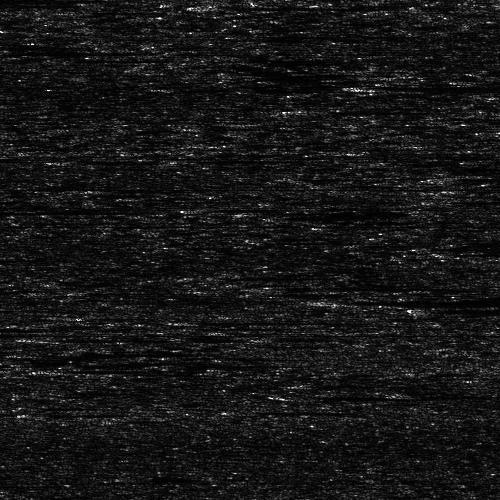object: (300, 294, 405, 305), (393, 305, 476, 312), (0, 334, 80, 341), (289, 107, 362, 114), (409, 250, 482, 255), (0, 46, 33, 57), (332, 82, 395, 87), (278, 392, 331, 397), (186, 2, 227, 7), (0, 207, 20, 216), (40, 158, 81, 161)
shadow: (353, 294, 500, 305), (6, 46, 120, 57), (38, 334, 179, 341), (305, 392, 500, 397), (0, 207, 103, 216), (207, 2, 388, 7), (326, 107, 447, 114), (364, 82, 500, 87), (435, 305, 500, 312), (445, 250, 500, 255), (61, 158, 114, 161), (0, 0, 110, 1)
